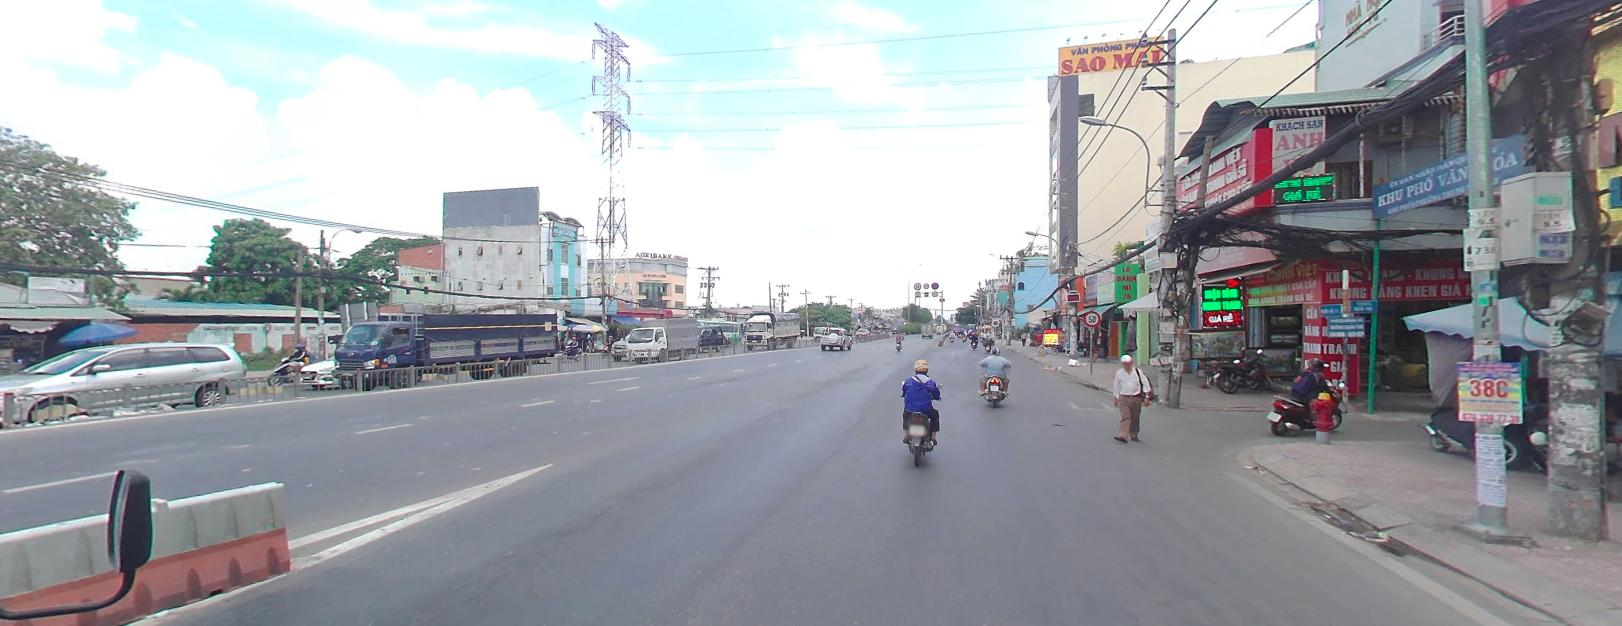Cam con lai: (913, 281, 920, 288), (923, 281, 929, 287), (932, 289, 937, 295)
Cam dung va do: (931, 280, 938, 287), (993, 318, 997, 323)
Gioi han toc do: (1083, 309, 1099, 325)
